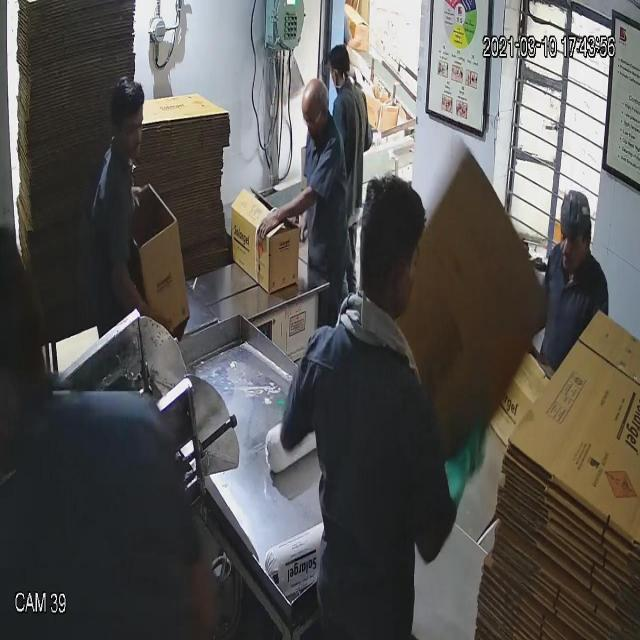No_Gloves: (72, 52, 290, 310)
